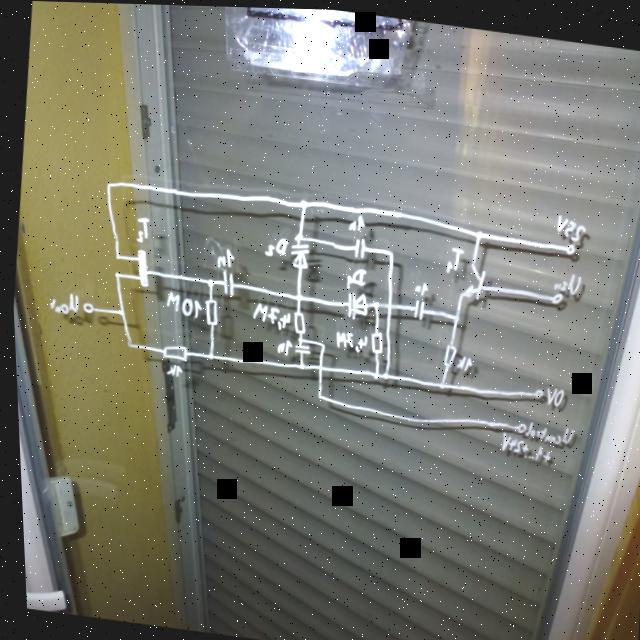capacitor: (217, 268, 236, 294), (408, 294, 425, 319), (350, 232, 366, 257), (291, 339, 308, 354)
crossover: (381, 297, 391, 309), (312, 361, 322, 370)
diode: (342, 287, 368, 320), (286, 238, 310, 270)
junction: (297, 194, 309, 210), (472, 224, 484, 238), (290, 289, 302, 302), (291, 228, 303, 239), (448, 309, 459, 320), (434, 376, 444, 388), (203, 348, 212, 360), (204, 275, 213, 287), (294, 358, 303, 370), (368, 367, 377, 378), (103, 178, 112, 189), (384, 245, 394, 254), (370, 296, 378, 307), (379, 367, 387, 378), (116, 305, 124, 316), (123, 338, 132, 347), (312, 389, 320, 398), (294, 333, 302, 341), (317, 339, 324, 347)
resistor: (158, 340, 187, 362), (199, 295, 219, 326), (437, 338, 456, 367), (365, 326, 383, 354), (288, 307, 306, 333)
terminal: (545, 286, 562, 303), (561, 238, 575, 251), (78, 300, 92, 313), (528, 383, 542, 395), (512, 418, 523, 430)
text: (496, 427, 549, 459), (521, 416, 572, 442), (248, 299, 290, 329), (162, 288, 202, 318), (552, 209, 586, 238), (45, 288, 78, 316), (331, 326, 366, 352), (550, 266, 581, 292), (261, 232, 288, 258), (341, 263, 366, 290), (442, 242, 464, 272), (213, 243, 234, 269), (132, 213, 150, 243), (541, 381, 562, 404), (345, 209, 366, 230), (452, 350, 472, 370), (272, 334, 291, 355), (409, 276, 428, 294), (162, 359, 180, 377)
transistor: (108, 244, 151, 287), (454, 255, 488, 299)
